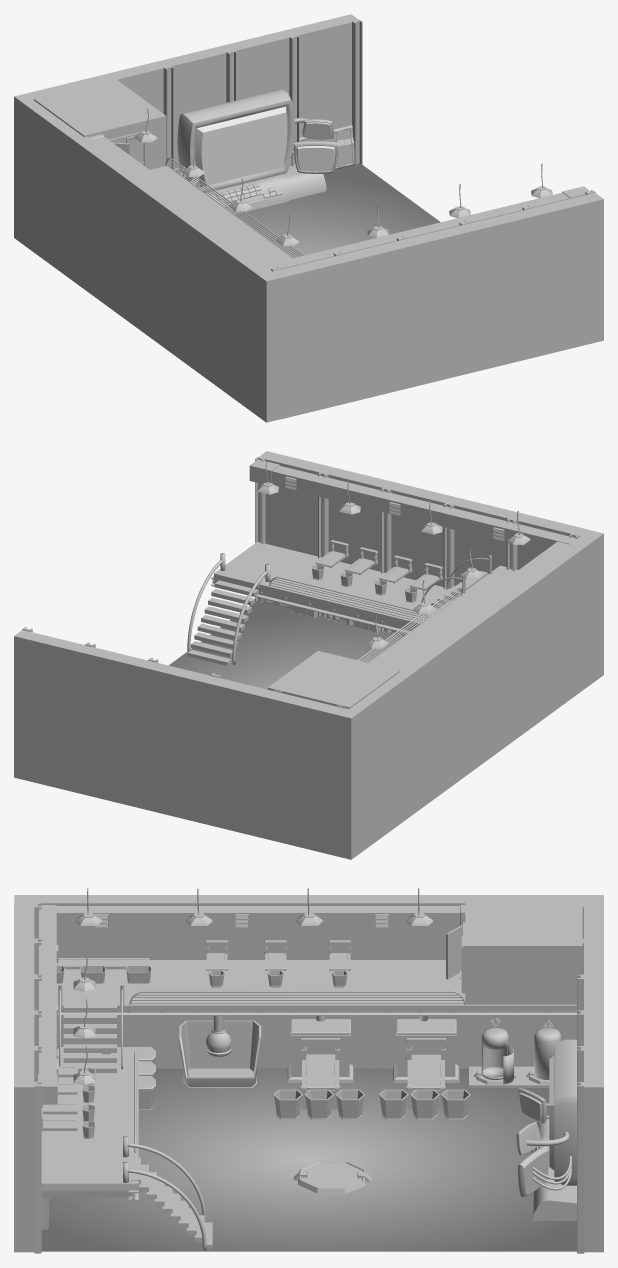
The model's file is Central.fbx.
3 views of the same model, one above another, from view 1: azimuth 30°, elevation 25°; view 2: azimuth 150°, elevation 25°; view 3: azimuth 270°, elevation 25° (orthographic). The views are drawn at different scales.
Parts seen in each view (by area): view 1: Cube.240, Cube.232, Cube.236, Cube.230, Plane.020, Cube.238, Cube.254, Cube.244, Plane.019, Cube.260, Cube.261, Cylinder.221 (+5 smaller); view 2: Cube.236, Cube.232, Cube.240, Plane.020, Cube.254, Plane.015, Cube.238, Cube.244, Cube.242, Plane.019, Cylinder.201, Beam.032 (+3 smaller); view 3: Plane.020, Cube.232, Plane.019, Cube.238, Cube.254, Plane.015, Cube.240, Cube.236, Cylinder.205, Cube.244, Cylinder.221, Cube.230 (+37 smaller).
Boxes of the visible parts, bbox=[...] form: Cube.240: bbox=[273, 193, 603, 419]; Cube.232: bbox=[14, 93, 281, 422]; Cube.236: bbox=[29, 14, 358, 168]; Cube.230: bbox=[177, 89, 294, 192]; Plane.020: bbox=[235, 163, 440, 257]; Cube.238: bbox=[34, 79, 166, 169]; Cube.254: bbox=[89, 134, 590, 269]; Cube.244: bbox=[163, 19, 595, 271]; Plane.019: bbox=[150, 166, 292, 262]; Cube.260: bbox=[206, 164, 326, 214]; Cube.261: bbox=[294, 141, 337, 173]; Cylinder.221: bbox=[165, 158, 304, 258]; Cube.236: bbox=[14, 630, 344, 856]; Cube.232: bbox=[336, 530, 603, 859]; Cube.240: bbox=[259, 451, 588, 632]; Plane.020: bbox=[168, 600, 399, 689]; Cube.254: bbox=[249, 459, 576, 669]; Plane.015: bbox=[213, 542, 452, 627]; Cube.238: bbox=[267, 651, 399, 708]; Cube.244: bbox=[22, 456, 579, 708]; Cube.242: bbox=[187, 571, 261, 665]; Plane.019: bbox=[369, 565, 517, 667]; Cylinder.201: bbox=[269, 576, 429, 622]; Beam.032: bbox=[211, 576, 414, 633]; Plane.020: bbox=[41, 1068, 576, 1251]; Cube.232: bbox=[14, 895, 603, 1068]; Plane.019: bbox=[56, 960, 576, 1010]; Cube.238: bbox=[465, 899, 582, 1004]; Cube.254: bbox=[38, 905, 465, 1104]; Plane.015: bbox=[41, 1058, 138, 1190]; Cube.240: bbox=[14, 903, 34, 1252]; Cube.236: bbox=[584, 903, 603, 1252]; Cylinder.205: bbox=[179, 1020, 261, 1088]; Cube.244: bbox=[34, 903, 584, 1253]; Cylinder.221: bbox=[129, 990, 465, 1004]; Cube.230: bbox=[549, 1039, 576, 1185].
Size of the model in its own units: 46.08 by 22.89 by 59.36.
